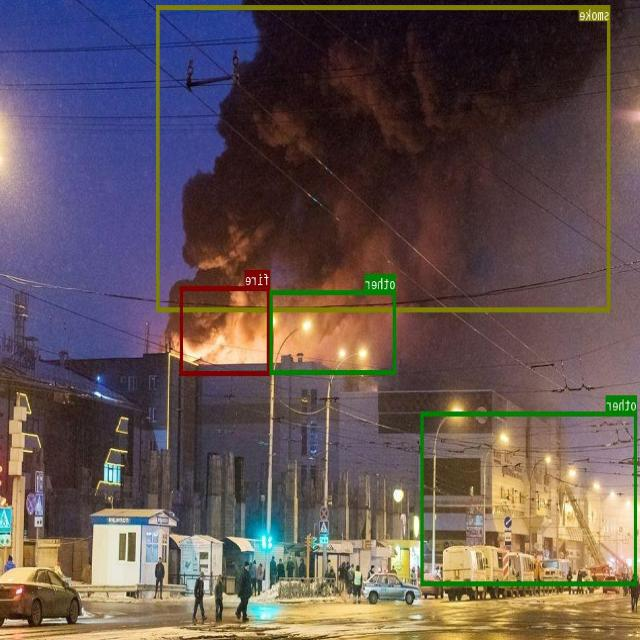fire: (180, 286, 270, 374)
other: (422, 411, 638, 585), (271, 290, 396, 374)
smoke: (157, 4, 611, 311)
